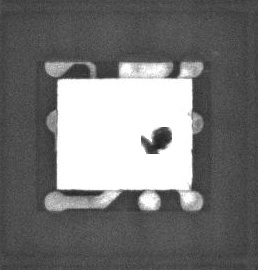DIE_INK: (138, 125, 174, 154)
